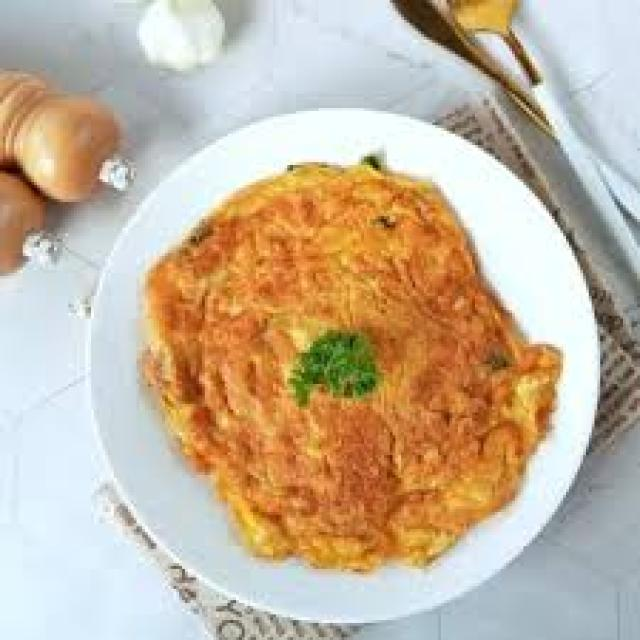telur_dadar: (142, 165, 550, 570)
